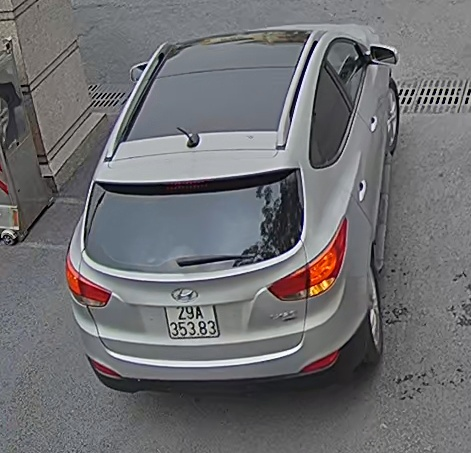vehicle plate: (163, 300, 221, 342)
